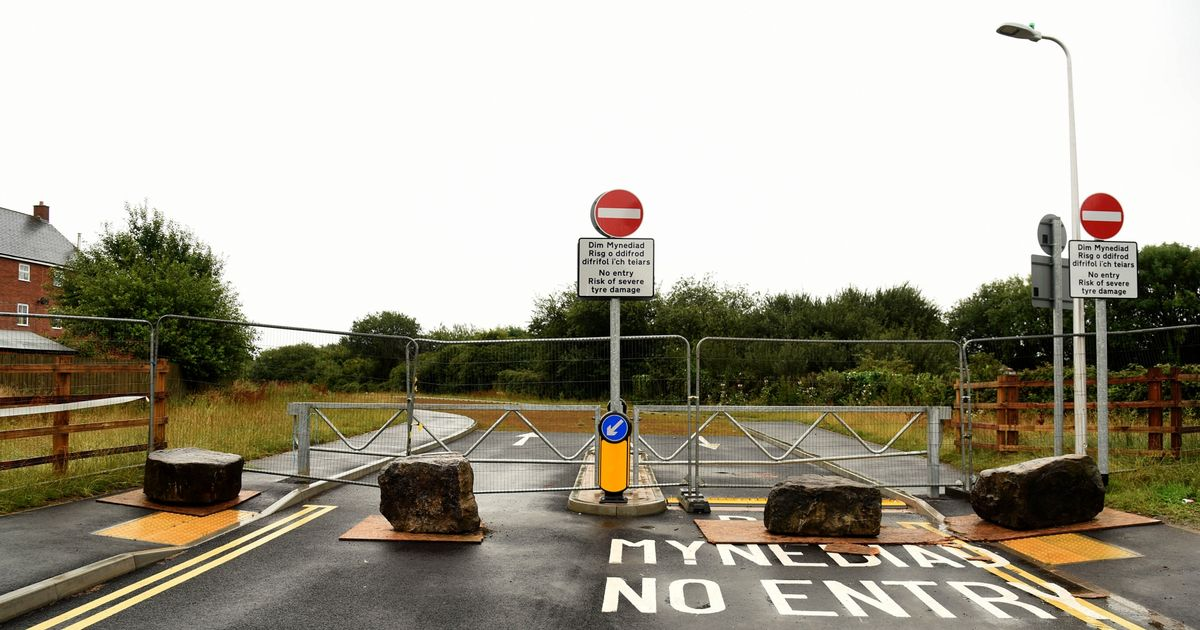No_entry: (594, 189, 644, 239), (1078, 192, 1126, 242)
